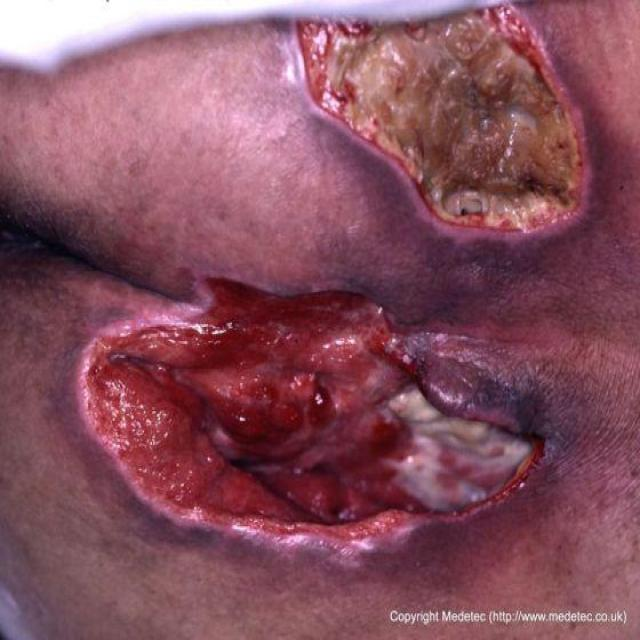Unstageable: (300, 11, 582, 228)
stage-4: (82, 281, 539, 540)
